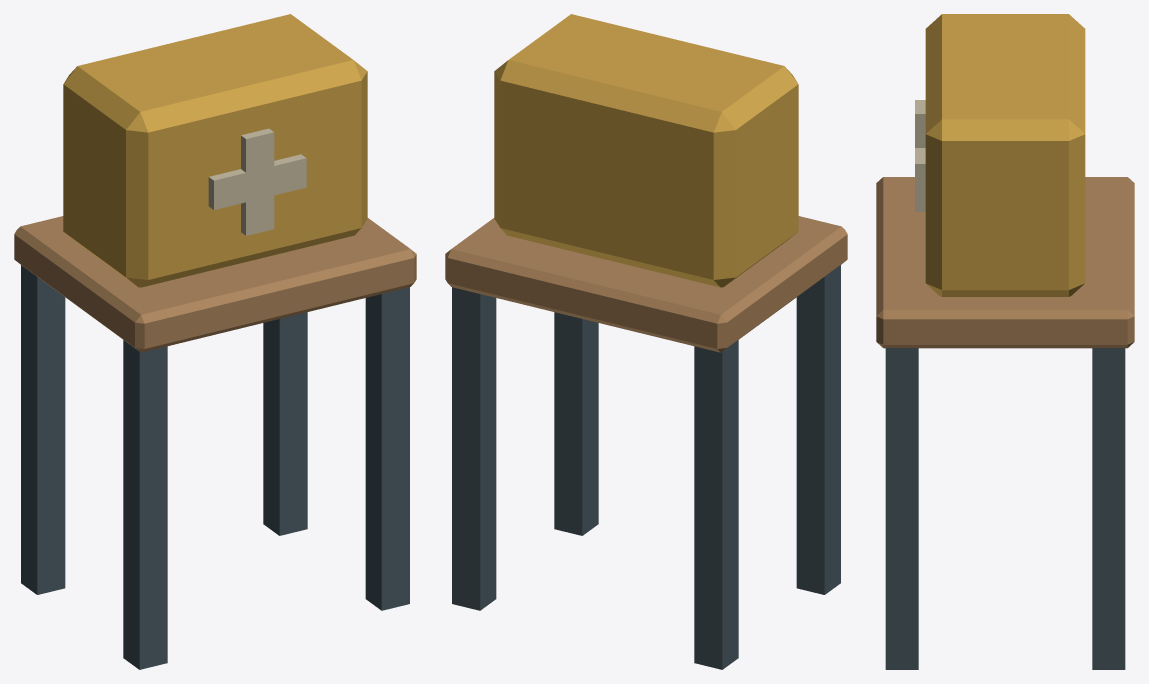
File: defibrillator_station.glb
The picture shows the model from 3 angles, left to right: view 1: azimuth 30°, elevation 25°; view 2: azimuth 150°, elevation 25°; view 3: azimuth 270°, elevation 25°; orthographic projection.
Parts seen in each view (by area): view 1: defibrillator_station; view 2: defibrillator_station; view 3: defibrillator_station.
Part boxes in pixels (bbox=[...]): defibrillator_station: bbox=[14, 14, 416, 669]; defibrillator_station: bbox=[445, 14, 847, 669]; defibrillator_station: bbox=[876, 14, 1134, 669].
Size of the model in its own units: 0.7 by 1.26 by 0.55.
